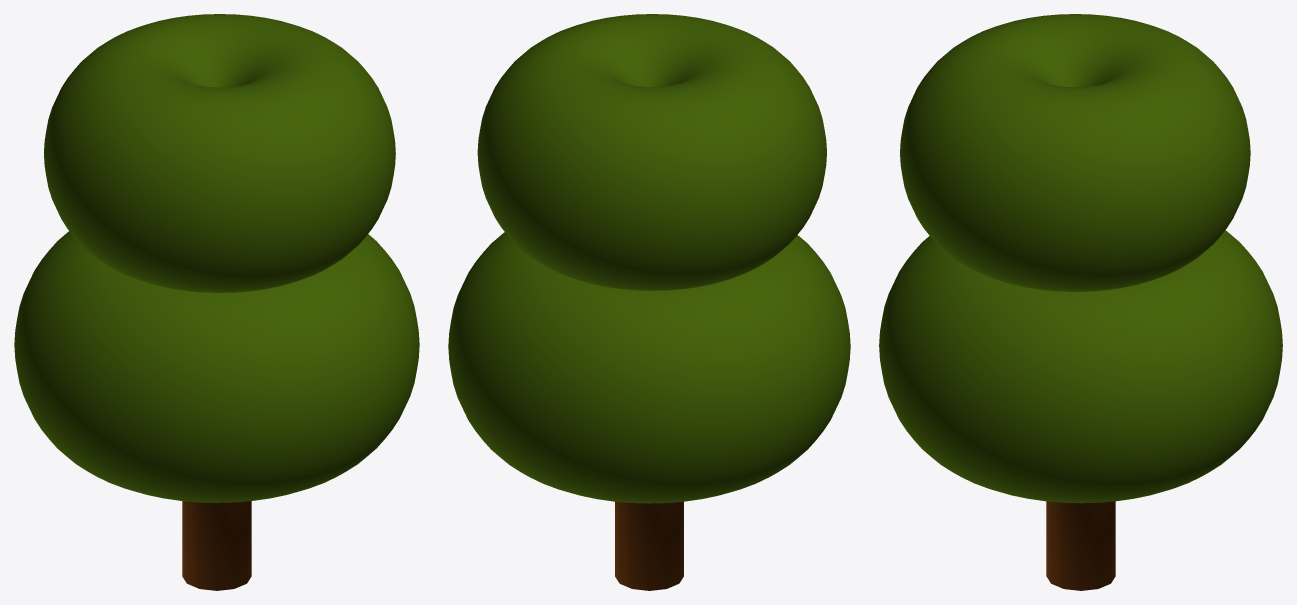
The model's file is l_drzewo_2.fbx.
The picture shows the model from 3 angles, left to right: view 1: azimuth 30°, elevation 25°; view 2: azimuth 150°, elevation 25°; view 3: azimuth 270°, elevation 25°; orthographic projection.
Parts seen in each view (by area): view 1: Torus, Torus.001, Cylinder.001; view 2: Torus, Torus.001, Cylinder.001; view 3: Torus, Torus.001, Cylinder.001.
Boxes of the visible parts, <box> form: Torus: <box>14,231,419,502</box>; Torus.001: <box>44,14,395,292</box>; Cylinder.001: <box>182,501,251,590</box>; Torus: <box>448,232,850,503</box>; Torus.001: <box>477,14,826,290</box>; Cylinder.001: <box>615,501,683,590</box>; Torus: <box>879,230,1282,503</box>; Torus.001: <box>900,14,1250,291</box>; Cylinder.001: <box>1046,501,1115,590</box>.
Bounding box in the file's own units: 7.68 × 7.68 × 10.88.
